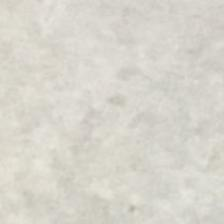Non_Crack: (20, 10, 198, 179)
